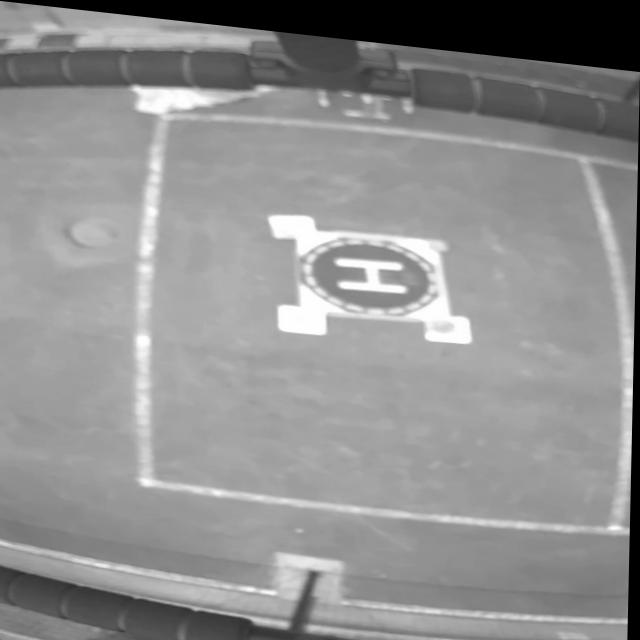Helipad: (335, 248, 410, 284)
